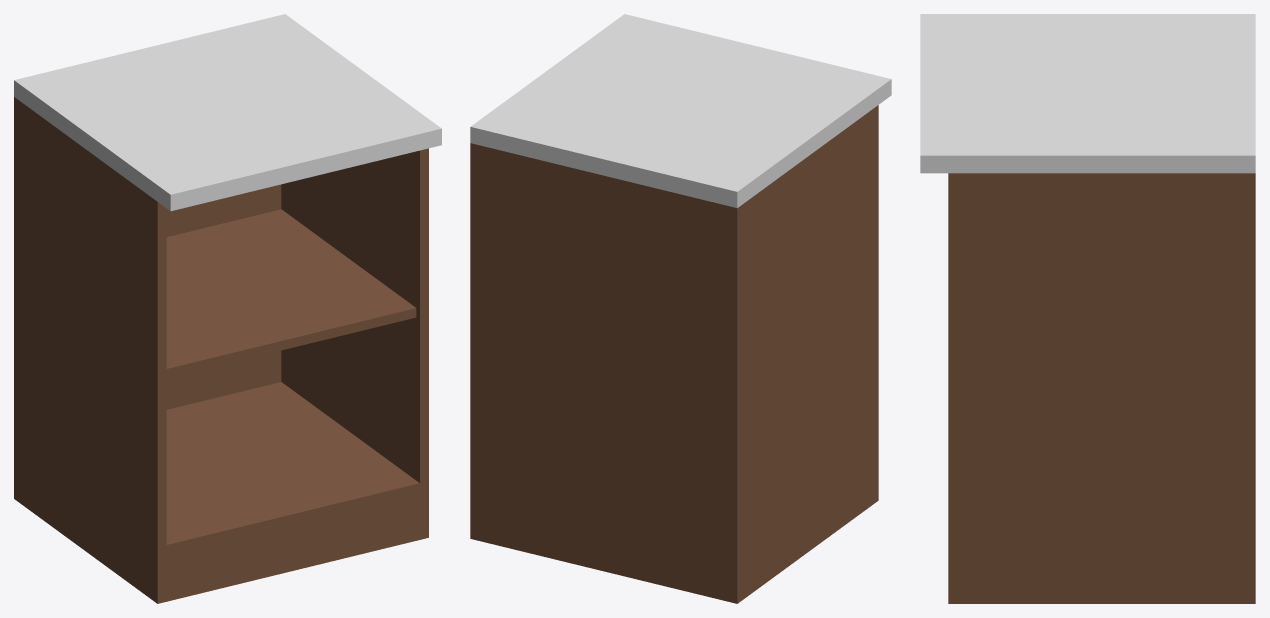
Rendered from Kitchen1_C2_02.fbx.
3 renders of one model, left to right at view 1: azimuth 30°, elevation 25°; view 2: azimuth 150°, elevation 25°; view 3: azimuth 270°, elevation 25°, orthographic. The views are drawn at different scales.
Visible parts, largest first — view 1: Kitchen1_C2_02; view 2: Kitchen1_C2_02; view 3: Kitchen1_C2_02.
Boxes of the visible parts, x1,y1,x2,y2 form: Kitchen1_C2_02: (14, 14, 441, 603); Kitchen1_C2_02: (470, 14, 891, 603); Kitchen1_C2_02: (920, 14, 1255, 603).
Size of the model in its own units: 60 by 88.5 by 60.
